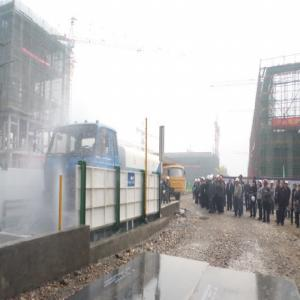none: (294, 183, 298, 192), (277, 179, 281, 188), (283, 181, 286, 189), (253, 181, 256, 187), (248, 179, 251, 185)
red: (264, 178, 268, 188), (220, 178, 224, 183)
white: (259, 181, 264, 189), (236, 179, 240, 186), (271, 180, 274, 187), (286, 181, 289, 187), (168, 177, 171, 182)
